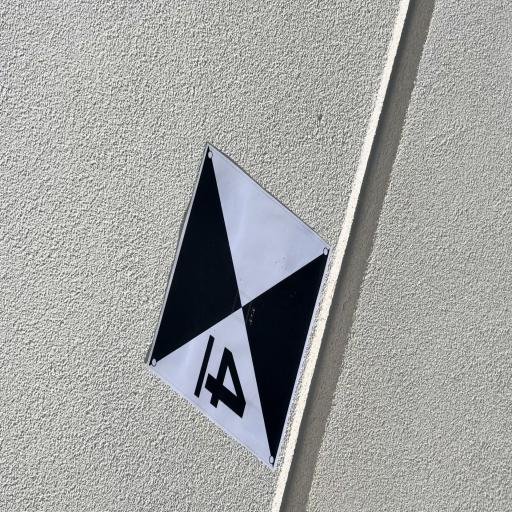target4: (149, 142, 331, 474)
